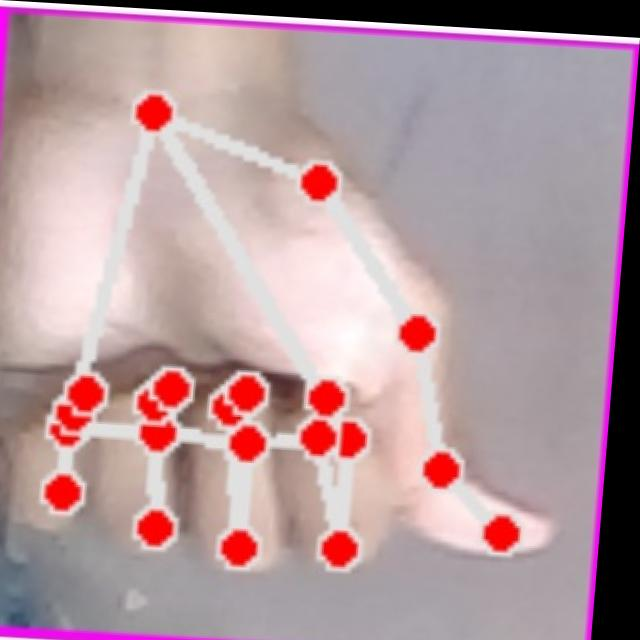A: (0, 49, 614, 603)
